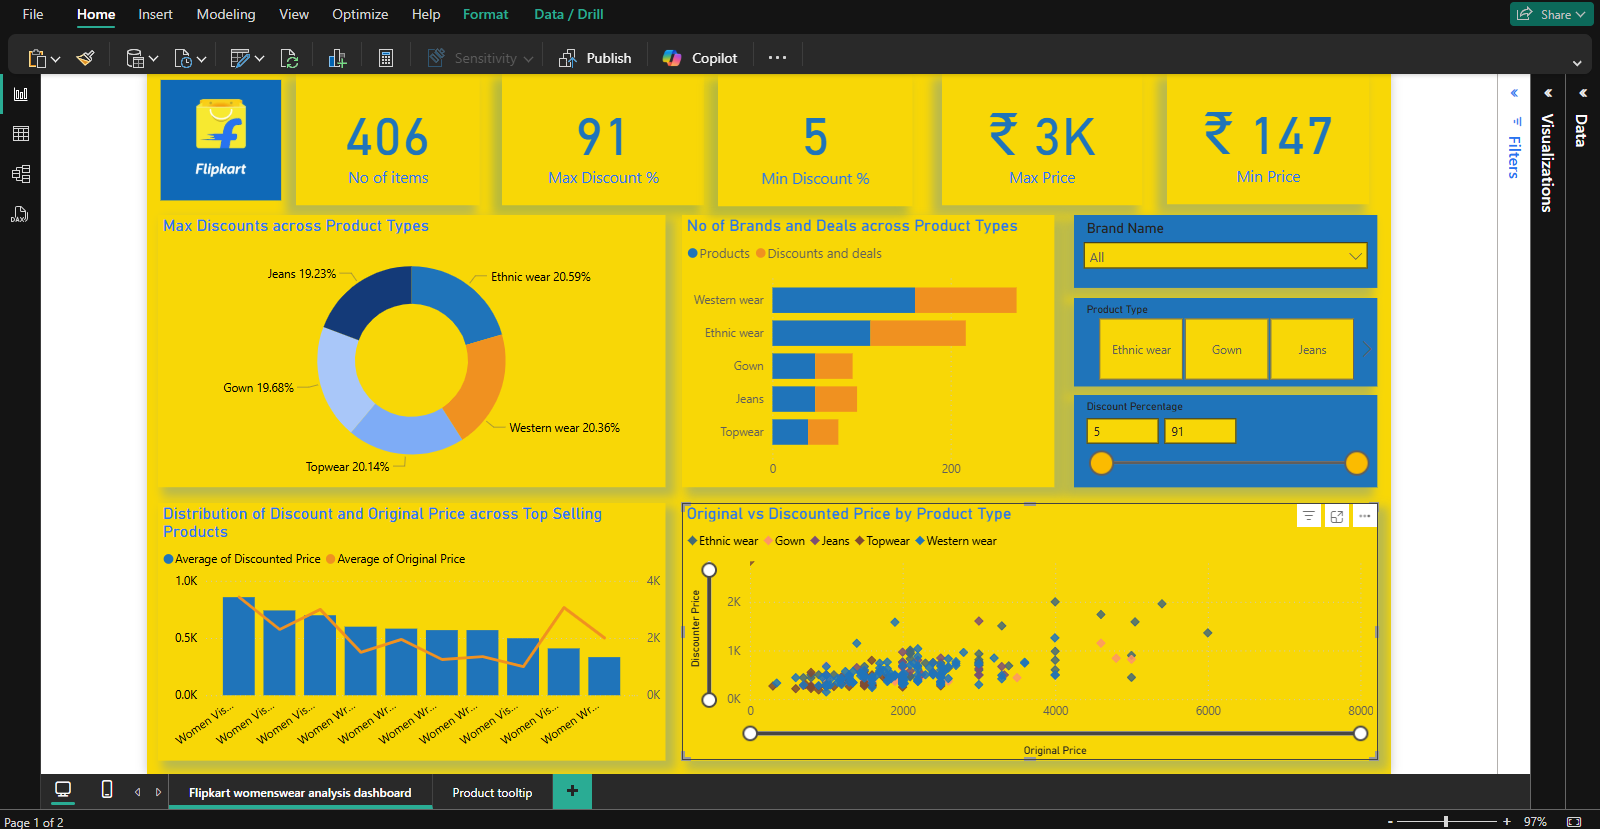

What the dashboard file says about the page in this screenshot:
{"tool":"powerbi","page":{"name":"Flipkart womenswear analysis dashboard","canvas":[1280,720],"ordinal":0},"visuals":[{"type":"card","fields":{"Values":["CountNonNull(Dresses.Brand Name)"]},"box":[152.9,0,188.9,134.9],"z":0},{"type":"card","fields":{"Values":["Dresses.Max Discount %"]},"box":[365,0,208.2,134.9],"z":1000},{"type":"card","fields":{"Values":["Dresses.Max Price"]},"box":[817.3,0,205.6,134.9],"z":2000},{"type":"card","fields":{"Values":["Dresses.Min Price"]},"box":[1048.7,0,208.2,133.7],"z":3000},{"type":"image","box":[0,1.3,152.9,133.7],"z":4000},{"type":"donutChart","title":"Max Discounts across Product Types","fields":{"Category":["Dresses.Product Type"],"Y":["Dresses.Max Discount %"]},"box":[11.6,145.2,521.8,280.2],"z":5000},{"type":"lineClusteredColumnComboChart","title":"Distribution of Discount and Original Price across Top Selling Products","fields":{"Category":["Dresses.Product Name"],"Y2":["Avg(Dresses.Original Price)"],"Y":["Avg(Dresses.Discounter Price)"]},"box":[11.6,440.8,521.8,264.7],"z":6000},{"type":"slicer","fields":{"Values":["Dresses.Brand Name"]},"box":[953.6,145.2,312.3,74.5],"z":7000},{"type":"slicer","fields":{"Values":["Dresses.Product Type"]},"box":[953.6,230,312.3,91.2],"z":8000},{"type":"slicer","fields":{"Values":["Dresses.Discount Percentage"]},"box":[953.6,330.3,312.3,95.1],"z":9000},{"type":"barChart","title":"No of Brands and Deals across Product Types","fields":{"Category":["Dresses.Product Type"],"Y":["CountNonNull(Dresses.Product Name)","CountNonNull(Dresses.Discounts and deals)"]},"box":[550,145.2,383,280.2],"z":10000},{"type":"card","fields":{"Values":["Min(Dresses.Discount Percentage)"]},"box":[587.3,1.3,200.5,134.9],"z":11000},{"type":"scatterChart","title":"Original vs Discounted Price by Product Type","fields":{"X":["Dresses.Original Price"],"Y":["Dresses.Discounter Price"],"Series":["Dresses.Product Type"]},"box":[550,440.8,715.8,264.7],"z":12000}]}

Visuals, with their boxes on the page's 1280x720 design canvas (x1, y1, x2, y2). These are canvas units, not pixel positions in the 1600x829 screenshot, which may show the page scaled, cropped or inside an application window:
card - CountNonNull(Dresses.Brand Name): region(153, 0, 342, 135)
card - Dresses.Max Discount %: region(365, 0, 573, 135)
card - Dresses.Max Price: region(817, 0, 1023, 135)
card - Dresses.Min Price: region(1049, 0, 1257, 134)
image: region(0, 1, 153, 135)
"Max Discounts across Product Types" donutChart: region(12, 145, 533, 425)
"Distribution of Discount and Original Price across Top Selling Products" lineClusteredColumnComboChart: region(12, 441, 533, 706)
slicer - Dresses.Brand Name: region(954, 145, 1266, 220)
slicer - Dresses.Product Type: region(954, 230, 1266, 321)
slicer - Dresses.Discount Percentage: region(954, 330, 1266, 425)
"No of Brands and Deals across Product Types" barChart: region(550, 145, 933, 425)
card - Min(Dresses.Discount Percentage): region(587, 1, 788, 136)
"Original vs Discounted Price by Product Type" scatterChart: region(550, 441, 1266, 706)
